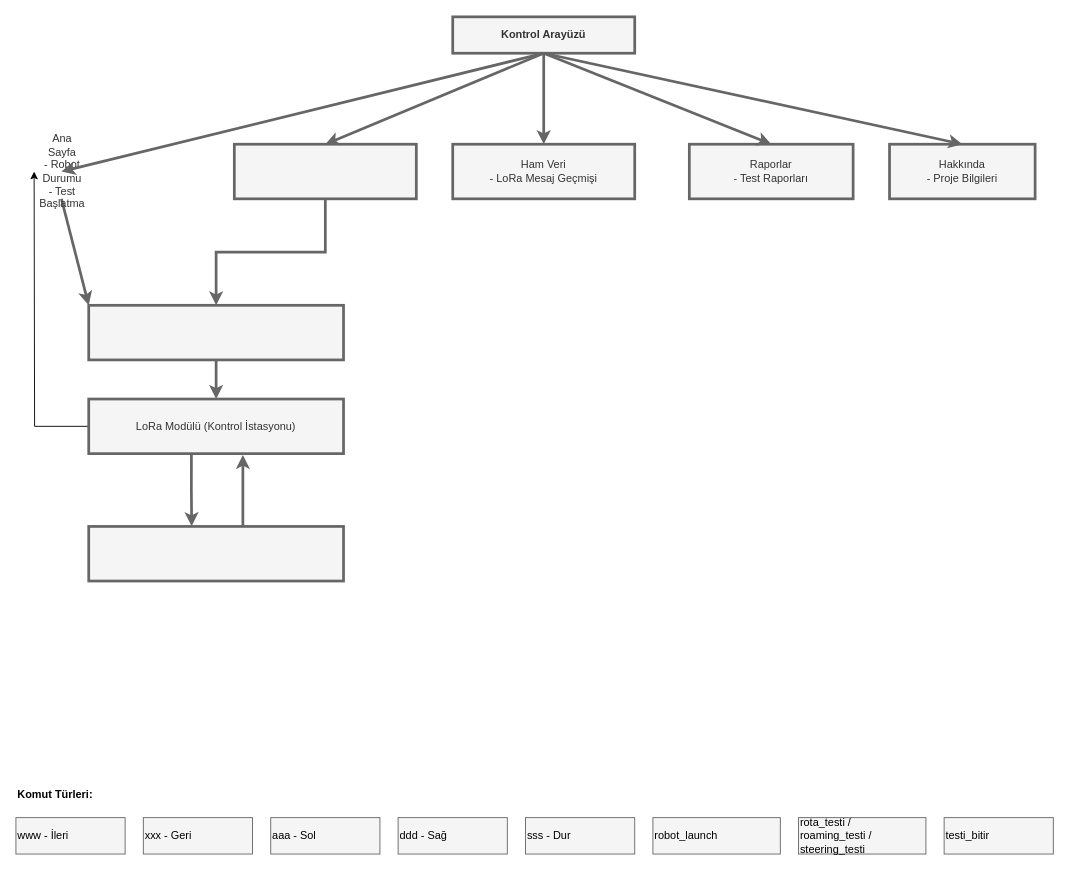
The diagram is 1069 pixels wide and 871 high, and some of its shapes have lost their labels. Each missing label, with the centre of its shape:
Kullanıcı Komut Verir (Buton Tıklama): point 215,332
LoRa Modülü (Robot Raspberry): point 215,553
Manuel Kontrol - İleri/Geri/Sol/Sağ/Dur Butonu: point 325,171
